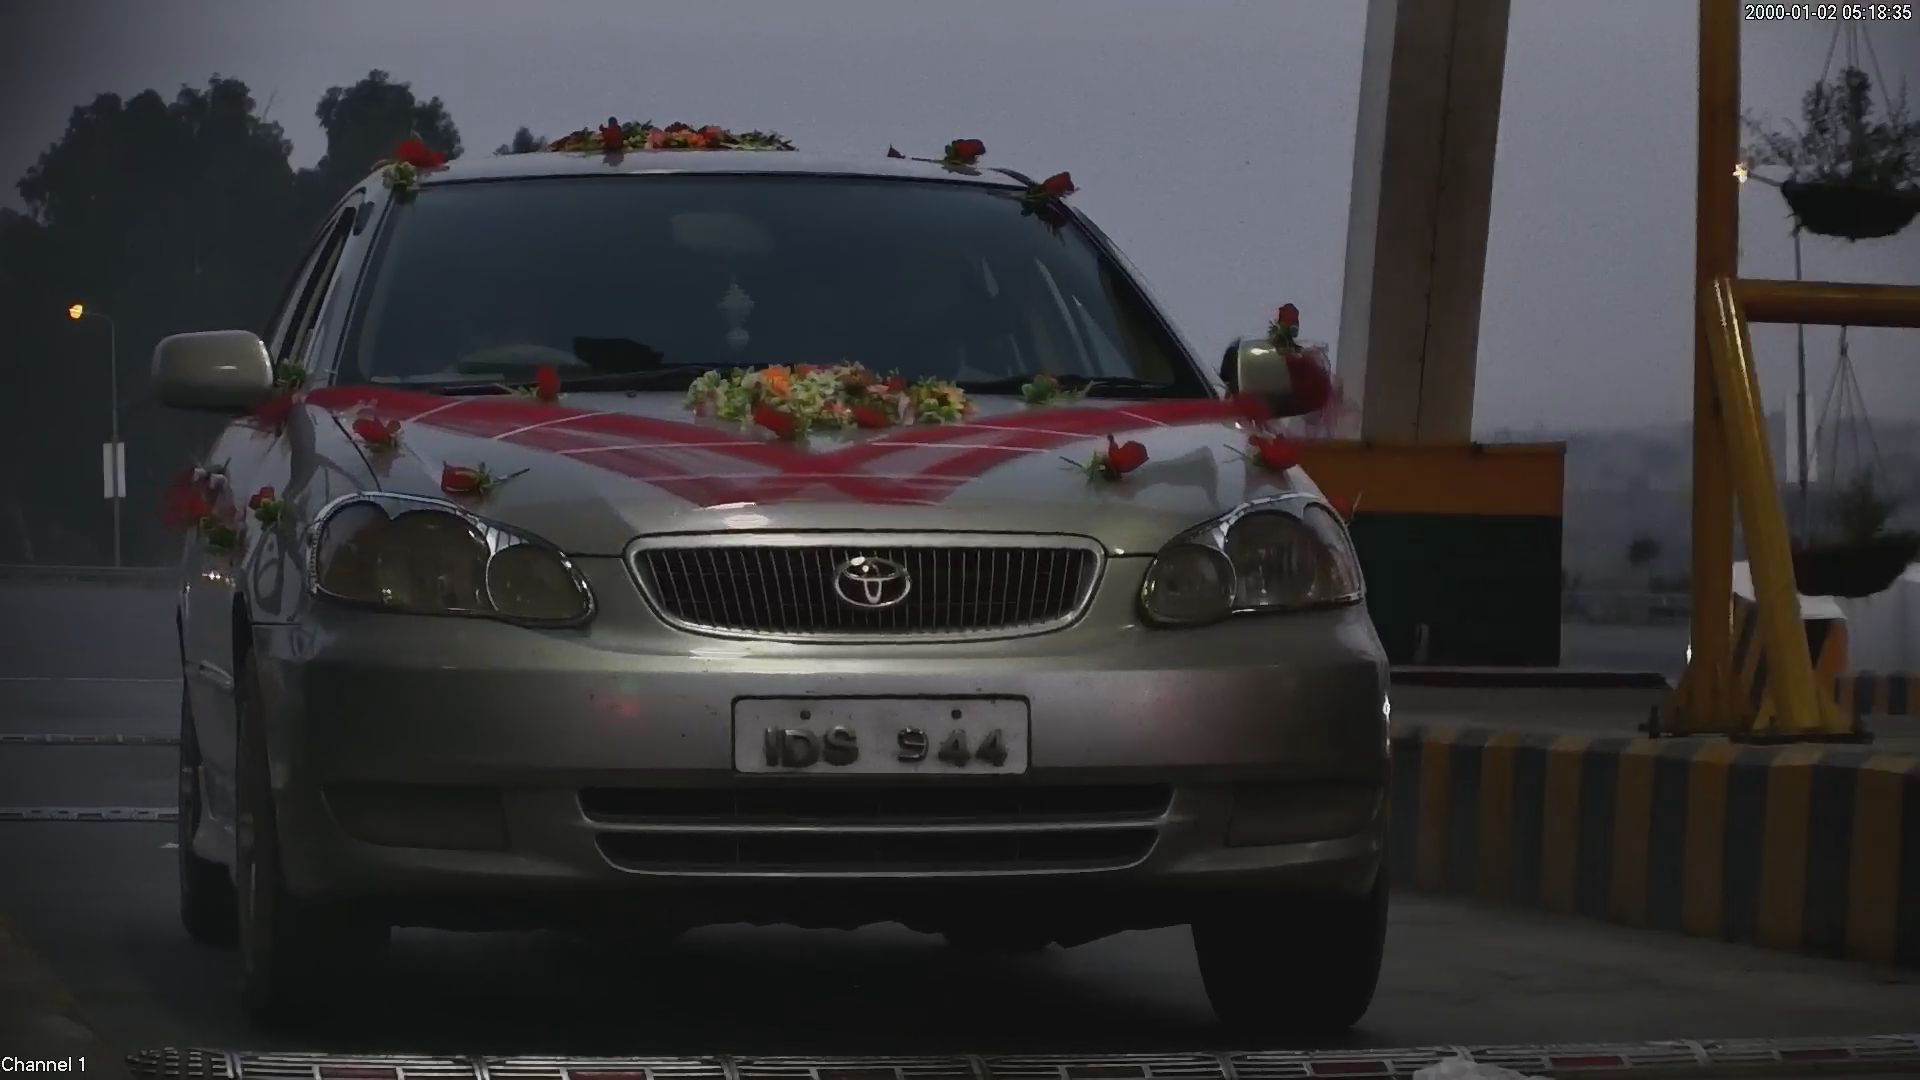Number_Plate: (722, 683, 1042, 793)
